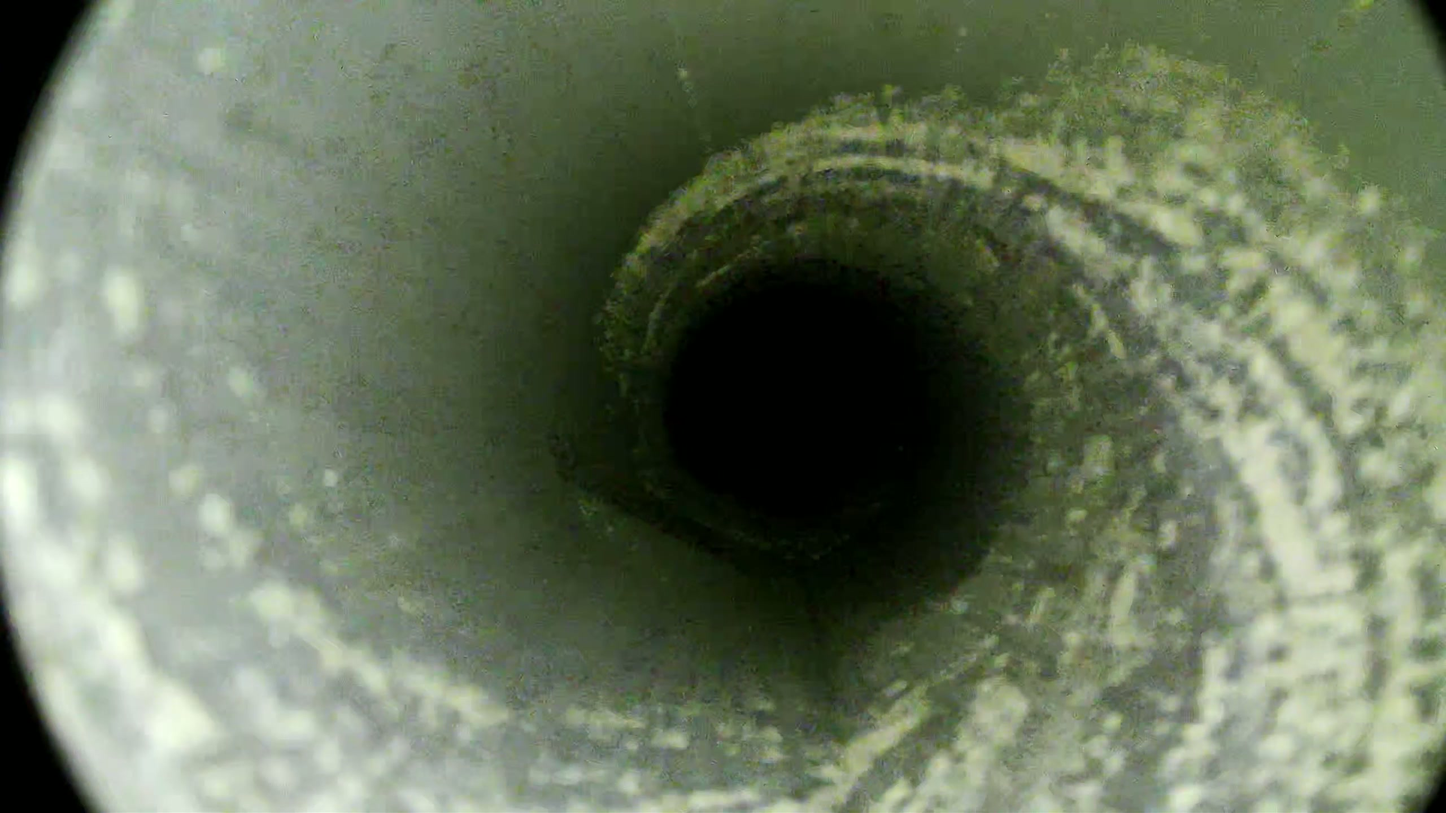hole: (672, 290, 906, 519)
